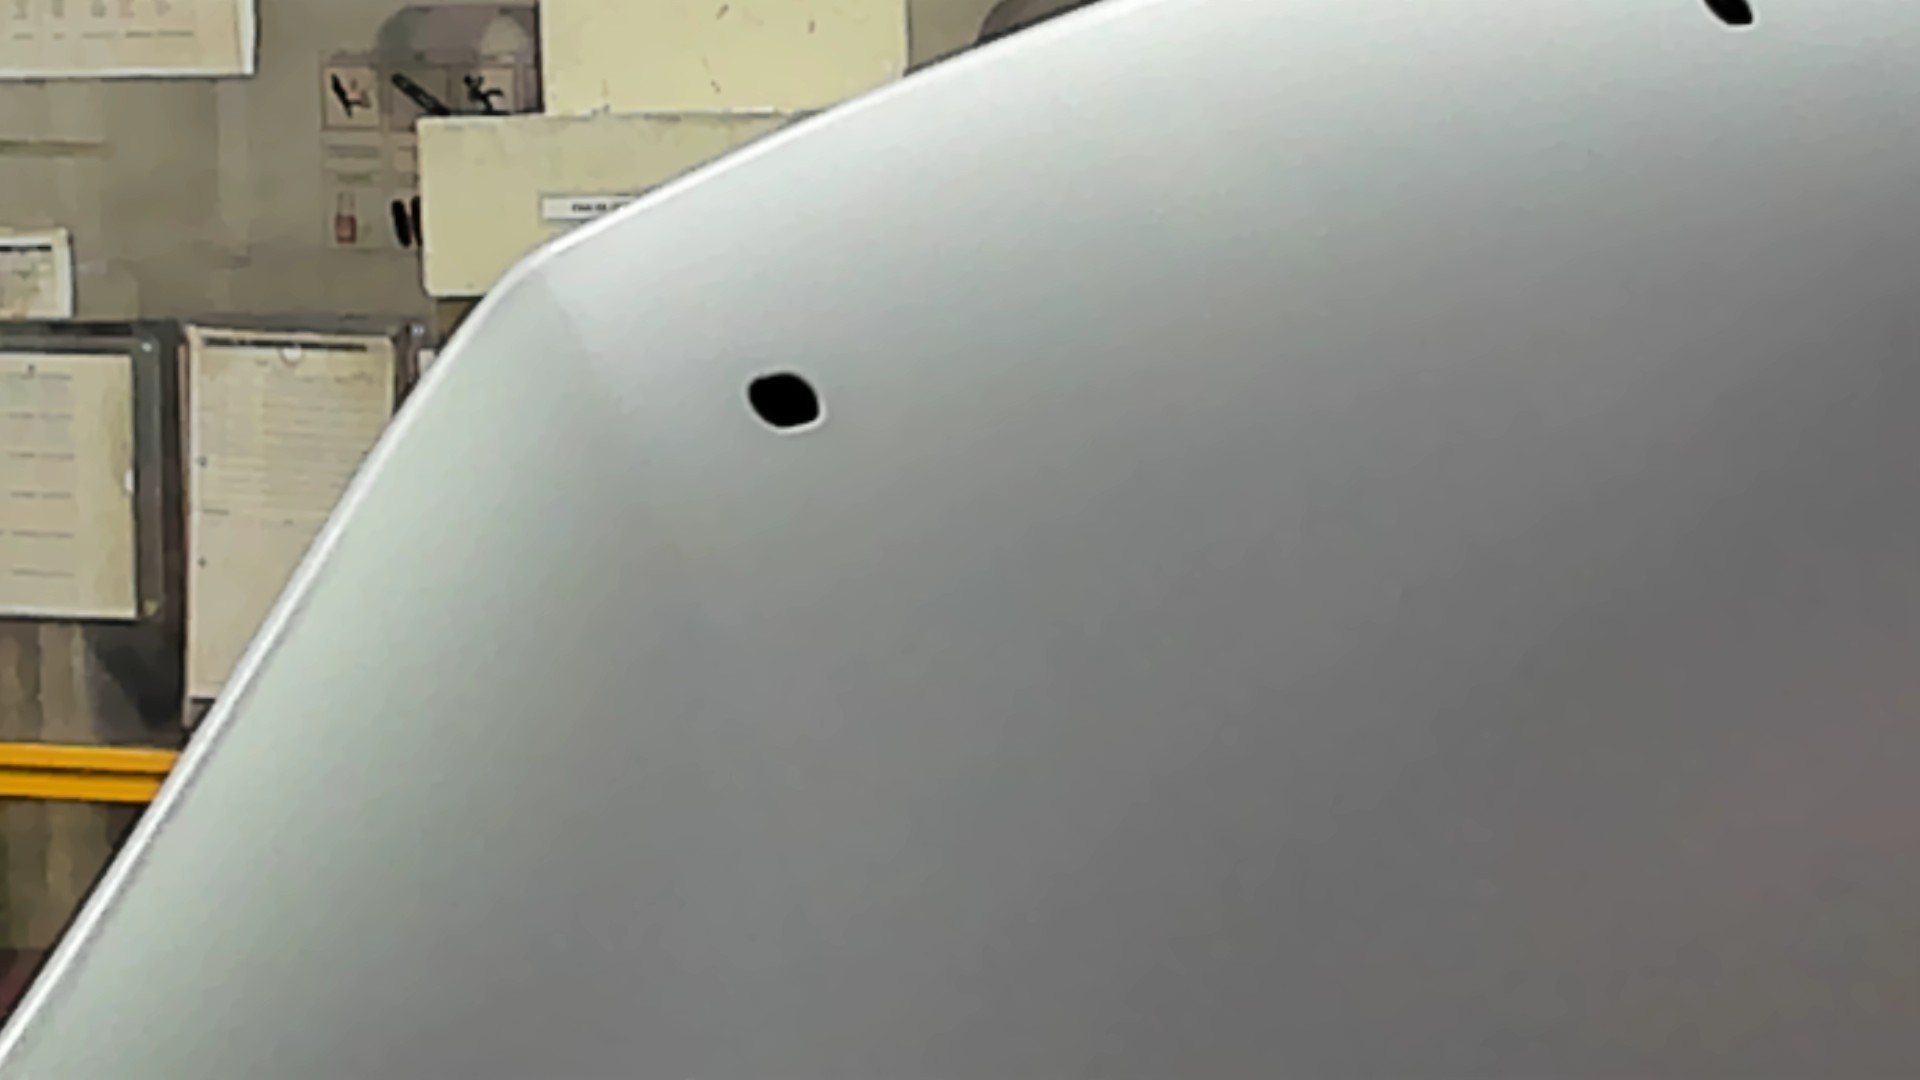amorfo: (745, 371, 829, 431), (1702, 1, 1764, 33)
